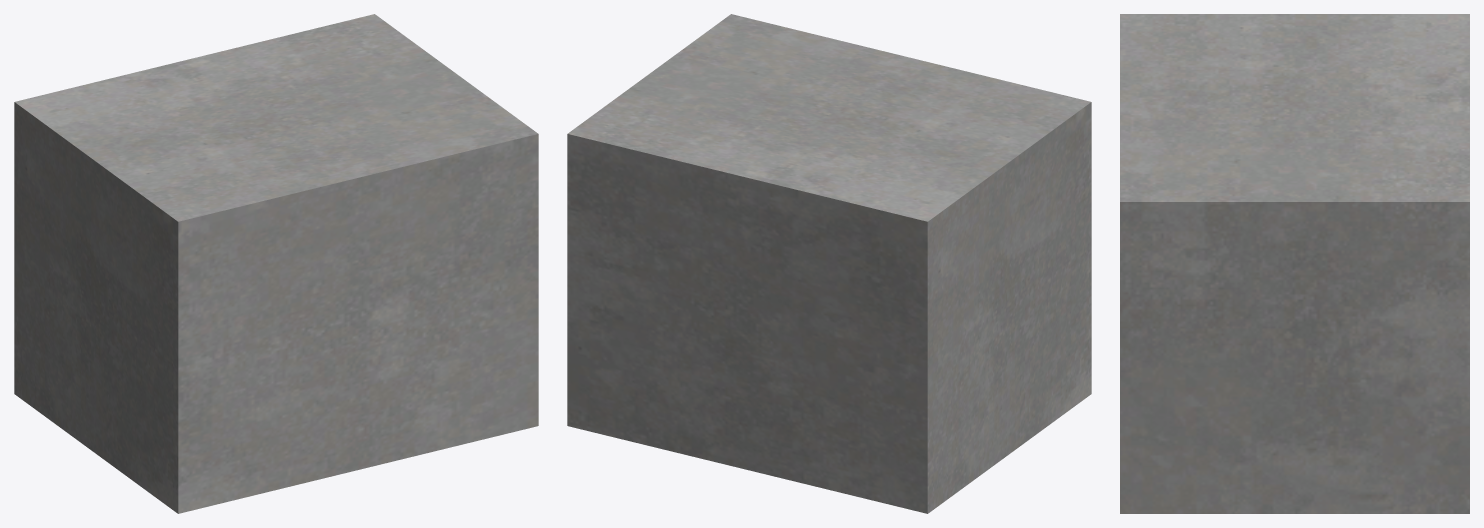
File: s_camera_speed1.dae
3 renders of one model, left to right at view 1: azimuth 30°, elevation 25°; view 2: azimuth 150°, elevation 25°; view 3: azimuth 270°, elevation 25°, orthographic. The views are drawn at different scales.
Parts seen in each view (by area): view 1: Colmesh-1; view 2: Colmesh-1; view 3: Colmesh-1.
Boxes of the visible parts, box(x1,y1,x2,y2) form: Colmesh-1: box(14, 14, 538, 513); Colmesh-1: box(567, 14, 1091, 513); Colmesh-1: box(1120, 14, 1469, 513).
Bounding box in the file's own units: 0.5525 × 0.4349 × 0.4928.
